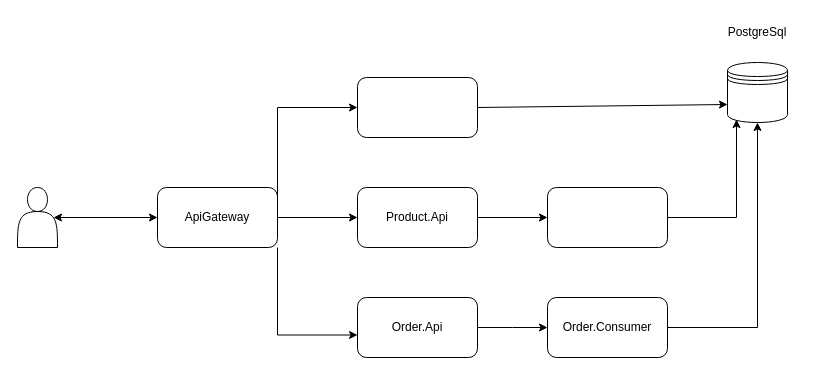
The diagram is 835 pixels wide and 375 high, and some of its shapes have lost their labels. The shapes that lost their labels are listed below. From the top down, each one's box as (x1, y1, x2, y2) in pixels, then its label:
(356, 76, 478, 138): Customer.Api
(546, 186, 668, 248): Product.Consumer
